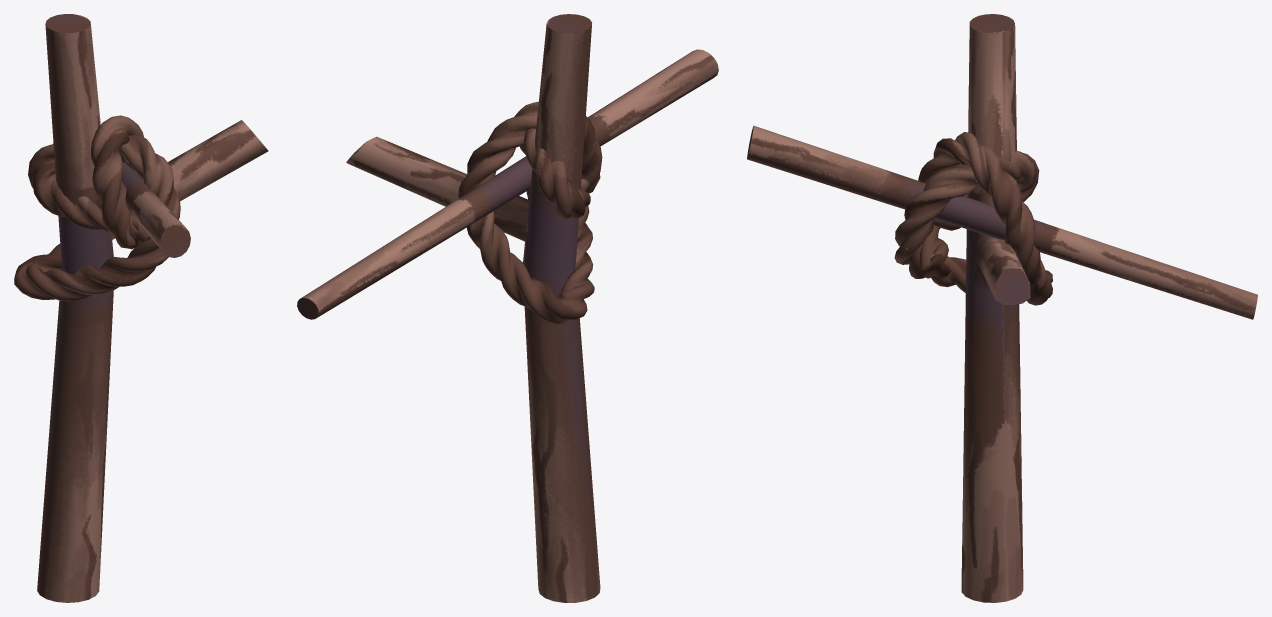
File: Twig.fbx
The picture shows the model from 3 angles, left to right: view 1: azimuth 30°, elevation 25°; view 2: azimuth 150°, elevation 25°; view 3: azimuth 270°, elevation 25°; orthographic projection.
Parts seen in each view (by area): view 1: Cube; view 2: Cube; view 3: Cube.
Part boxes in pixels (box(x1,y1,x2,y2)): Cube: box(14, 14, 268, 602); Cube: box(297, 14, 718, 602); Cube: box(747, 14, 1257, 602).
Bounding box in the file's own units: 55.55 × 103 × 126.
Materials: 1 (1 with a texture image).
